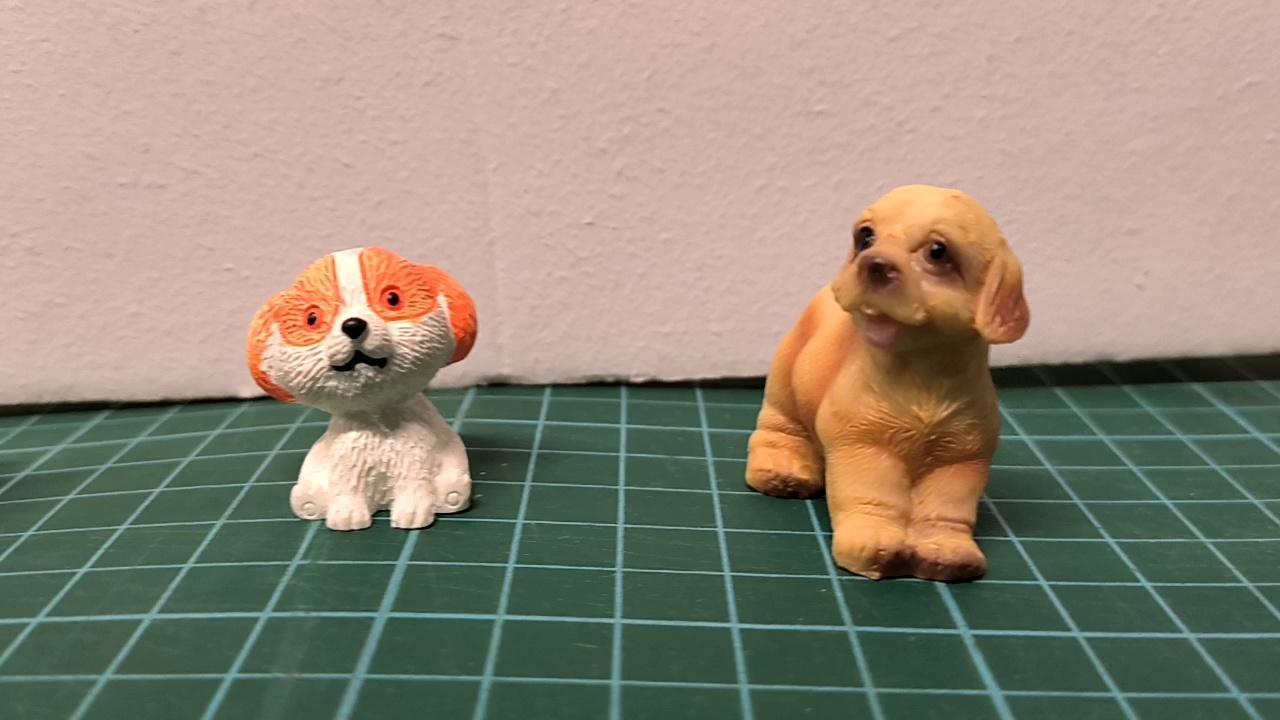pet: (746, 185, 1031, 583), (247, 247, 478, 532)
